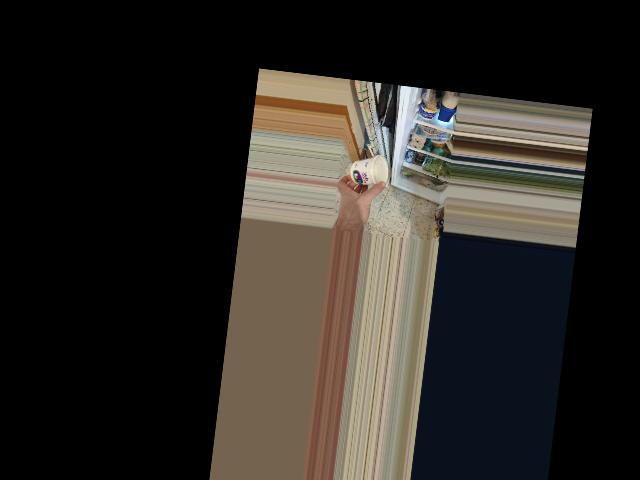cotage: (348, 153, 389, 190)
